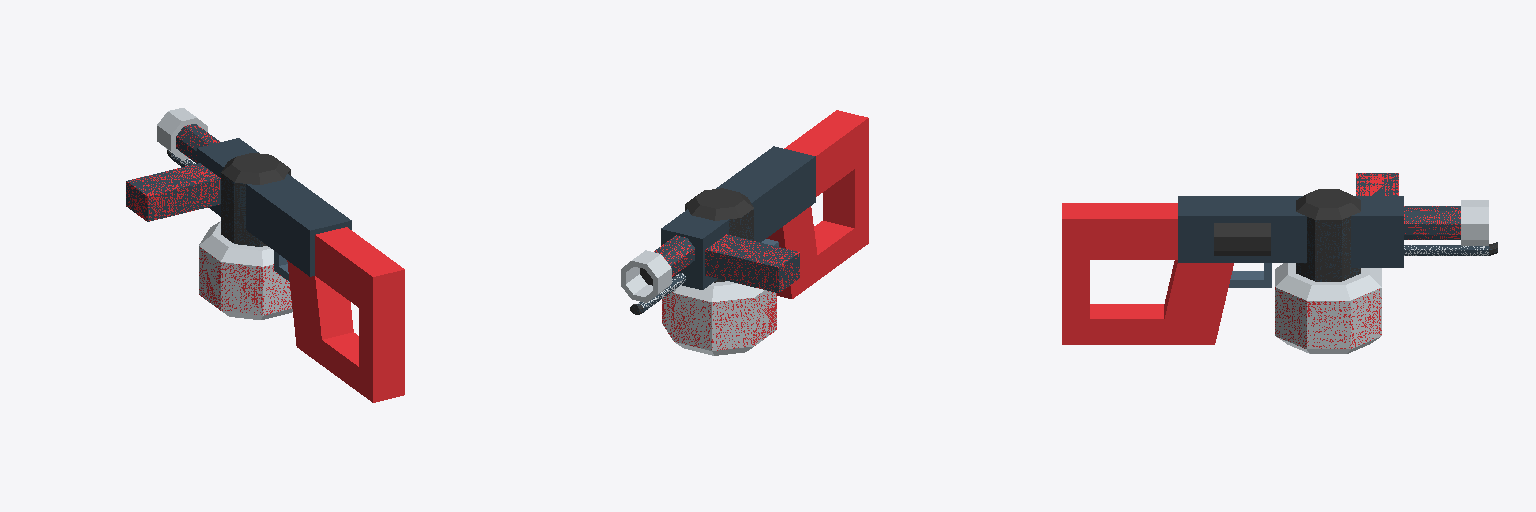
Rendered from flamethrower_long.obj.
The picture shows the model from 3 angles: view 1: azimuth 30°, elevation 25°; view 2: azimuth 150°, elevation 25°; view 3: azimuth 270°, elevation 25°; orthographic projection.
Parts seen in each view (by area): view 1: Group; view 2: Group; view 3: Group.
Boxes of the visible parts, box(x1,y1,x2,y2) form: Group: box(126, 108, 404, 402); Group: box(621, 110, 868, 355); Group: box(1062, 173, 1497, 353).
Bounding box in the file's own units: 0.2194 × 0.2067 × 0.5887.